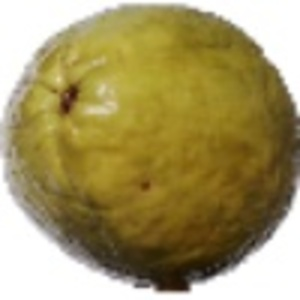goiaba: (4, 3, 297, 279)
